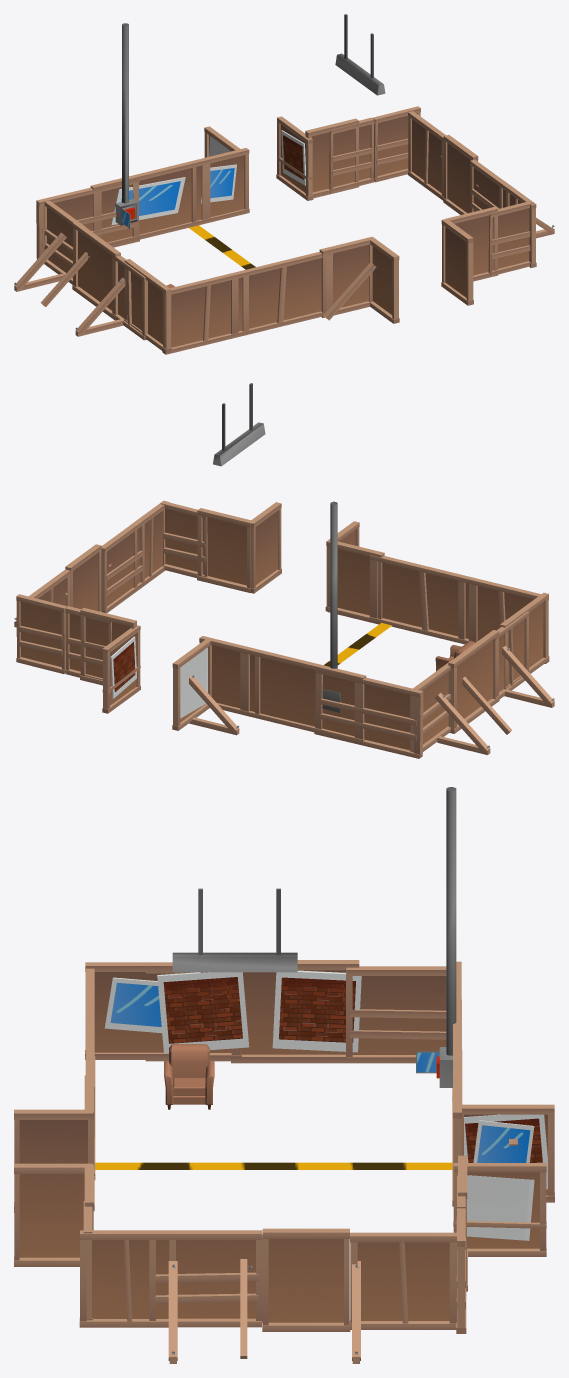
File: Tutorial Level _ 2_additional room.fbx
3 views of the same model, one above another, from view 1: azimuth 30°, elevation 25°; view 2: azimuth 150°, elevation 25°; view 3: azimuth 270°, elevation 25° (orthographic). The views are drawn at different scales.
Visible parts, largest first — view 1: Wooden Wall.014, Wooden Beam.009, Wooden Wall.048, Wooden Beam.075, Wooden Beam.139, Wooden Beam.055, Wooden Beam.049, Wooden Beam.078, Wooden Beam.054, Wooden Wall.017, Wooden Beam.079, Wooden Wall.015 (+18 smaller); view 2: Wooden Beam.009, Wooden Wall.014, Wooden Beam.139, Wooden Beam.050, Wooden Beam.079, Wooden Beam.055, Wooden Wall.048, Wooden Beam.049, Wooden Beam.063, Wooden Beam.075, Wooden Beam.054, Wooden Wall.015 (+19 smaller); view 3: Wooden Wall.017, Wooden Beam.062, Wooden Beam.057, Wooden Beam.063, Wooden Wall.010, Wooden Wall.015, Wooden Beam.048, Wooden Beam.035, Poster.002, Poster.003, Wooden Beam.055, Wooden Beam.047 (+13 smaller).
Part boxes in pixels (bbox=[...]): Wooden Wall.014: bbox=[231, 252, 333, 338]; Wooden Beam.009: bbox=[90, 158, 210, 244]; Wooden Wall.048: bbox=[162, 269, 249, 354]; Wooden Beam.075: bbox=[190, 148, 249, 226]; Wooden Beam.139: bbox=[36, 179, 139, 263]; Wooden Beam.055: bbox=[72, 221, 120, 320]; Wooden Beam.049: bbox=[319, 237, 372, 317]; Wooden Beam.078: bbox=[329, 117, 374, 193]; Wooden Beam.054: bbox=[488, 201, 533, 276]; Wooden Wall.017: bbox=[407, 111, 445, 200]; Wooden Beam.079: bbox=[373, 106, 420, 182]; Wooden Wall.015: bbox=[276, 116, 313, 200]; Wooden Beam.009: bbox=[240, 646, 366, 743]; Wooden Wall.014: bbox=[369, 555, 477, 643]; Wooden Beam.139: bbox=[314, 670, 423, 758]; Wooden Beam.050: bbox=[197, 508, 251, 592]; Wooden Beam.079: bbox=[16, 594, 67, 673]; Wooden Beam.055: bbox=[448, 630, 499, 733]; Wooden Wall.048: bbox=[457, 574, 549, 663]; Wooden Beam.049: bbox=[327, 541, 384, 624]; Wooden Beam.063: bbox=[101, 520, 145, 613]; Wooden Beam.075: bbox=[199, 636, 260, 718]; Wooden Beam.054: bbox=[160, 501, 207, 577]; Wooden Wall.015: bbox=[102, 625, 140, 713]; Wooden Wall.017: bbox=[350, 1232, 456, 1329]; Wooden Beam.062: bbox=[262, 1228, 350, 1331]; Wooden Beam.057: bbox=[346, 966, 446, 1063]; Wooden Beam.063: bbox=[149, 1230, 262, 1327]; Wooden Wall.010: bbox=[79, 1230, 175, 1327]; Wooden Wall.015: bbox=[453, 1163, 546, 1256]; Wooden Beam.048: bbox=[14, 1163, 93, 1266]; Wooden Beam.035: bbox=[85, 962, 207, 1059]; Poster.002: bbox=[157, 972, 249, 1053]; Poster.003: bbox=[272, 970, 361, 1052]; Wooden Beam.055: bbox=[231, 960, 359, 1063]; Wooden Beam.047: bbox=[14, 1109, 93, 1212].
Size of the model in its own units: 20539 by 9985 by 13856.
